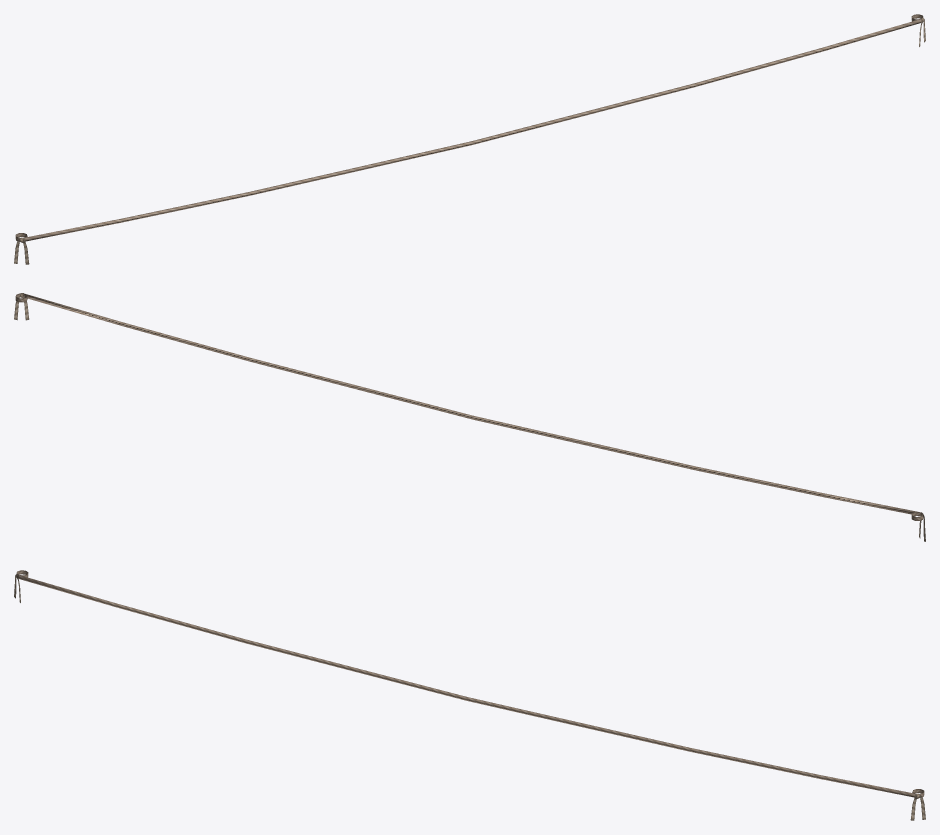
File: jsf_4P_String_s04_02.fbx
3 views of the same model, one above another, from view 1: azimuth 30°, elevation 25°; view 2: azimuth 150°, elevation 25°; view 3: azimuth 330°, elevation 25° (orthographic).
Parts seen in each view (by area): view 1: jsf_4P_String_s04_02; view 2: jsf_4P_String_s04_02; view 3: jsf_4P_String_s04_02.
Part boxes in pixels (bbox=[...]): jsf_4P_String_s04_02: bbox=[14, 14, 925, 264]; jsf_4P_String_s04_02: bbox=[14, 293, 925, 541]; jsf_4P_String_s04_02: bbox=[14, 570, 925, 820].
Size of the model in its own units: 344 by 9.85 by 5.
